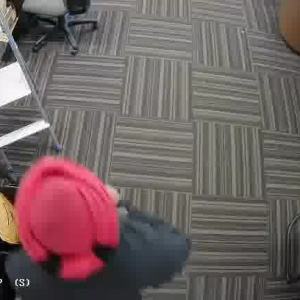person: (4, 159, 186, 299)
